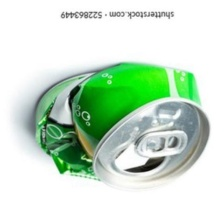can: (24, 56, 214, 196)
